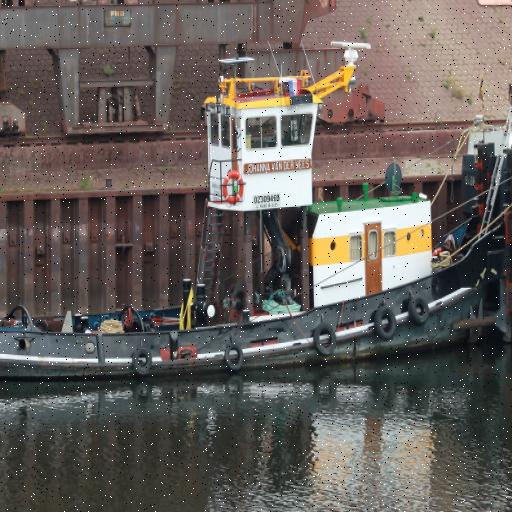tugboat: (1, 37, 512, 404)
